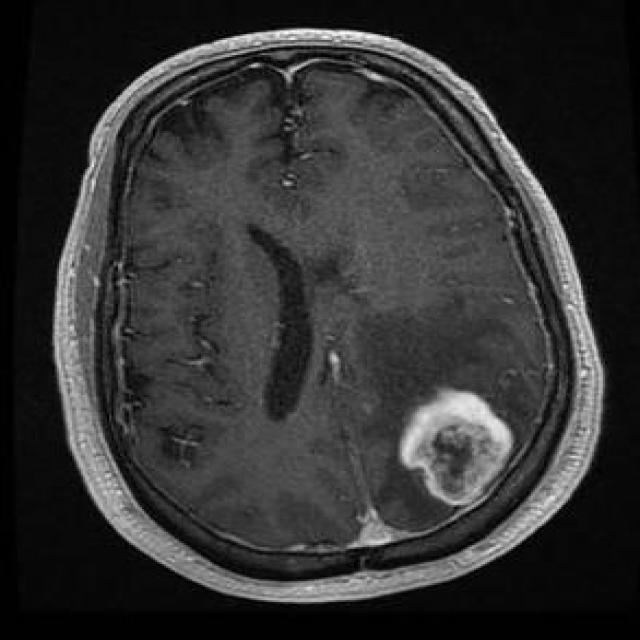Tumor-Cell: (370, 376, 513, 522)
